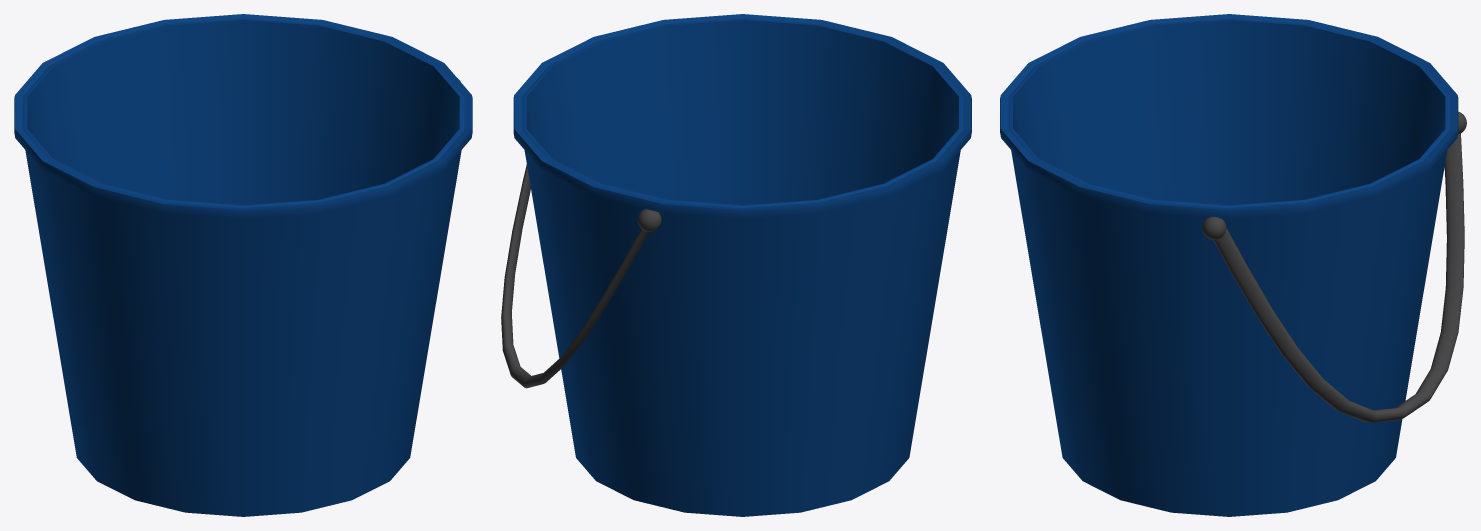
Rendered from Cubo.fbx.
3 renders of one model, left to right at view 1: azimuth 30°, elevation 25°; view 2: azimuth 150°, elevation 25°; view 3: azimuth 270°, elevation 25°, orthographic.
Visible parts, largest first — view 1: Cubo; view 2: Cubo; view 3: Cubo.
Part boxes in pixels (left/top/right/bottom): Cubo: left=14, top=14, right=472, bottom=516; Cubo: left=501, top=14, right=971, bottom=516; Cubo: left=1000, top=14, right=1466, bottom=516.
Bounding box in the file's own units: 39.4 × 30.53 × 38.73.
